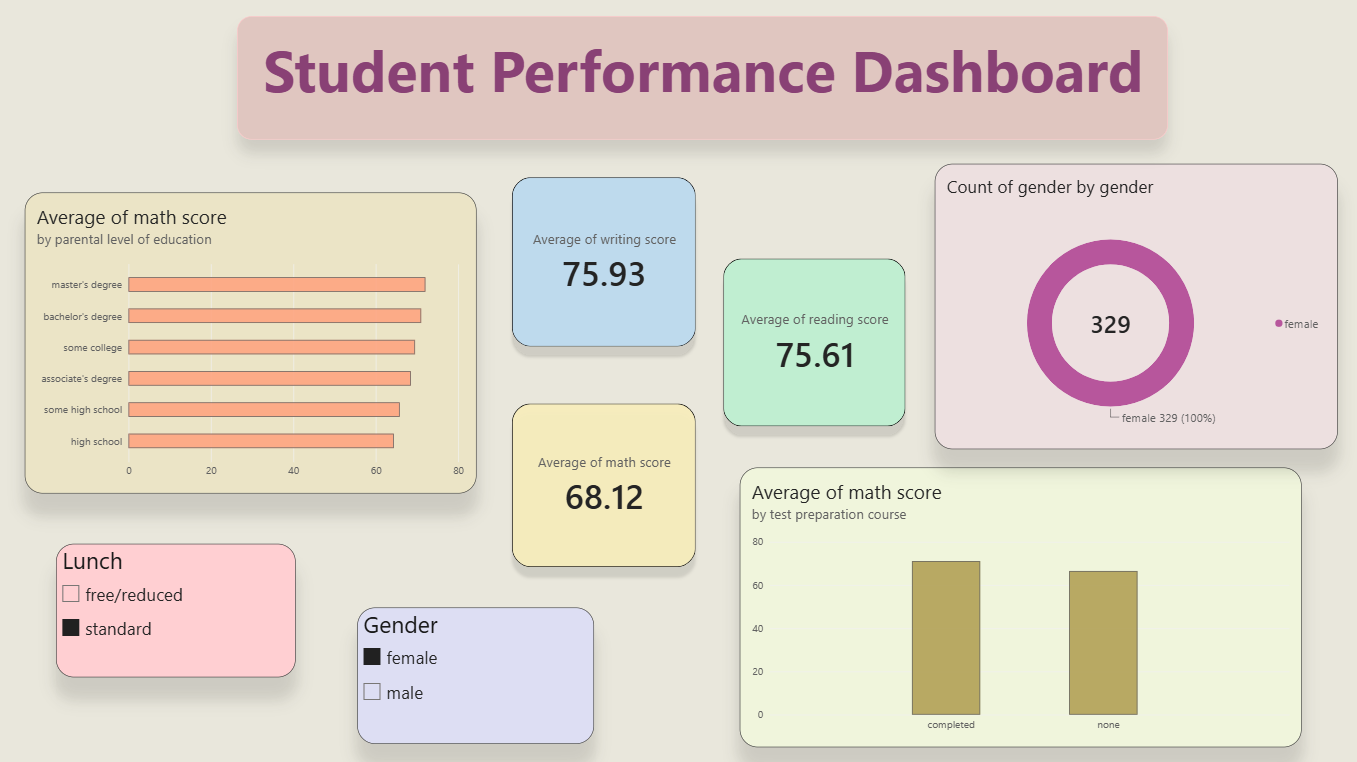

What the dashboard file says about the page in this screenshot:
{"tool":"powerbi","page":{"name":"Page 1","canvas":[1920,1080],"ordinal":0},"visuals":[{"type":"cardVisual","fields":{"Data":["Avg(StudentsPerformance.math score)"]},"box":[702,558,294,266],"z":0},{"type":"clusteredBarChart","fields":{"Category":["StudentsPerformance.parental level of education"],"Y":["Avg(StudentsPerformance.math score)"]},"box":[40,282,630,420],"z":1000},{"type":"clusteredColumnChart","fields":{"Category":["StudentsPerformance.test preparation course"],"Y":["Avg(StudentsPerformance.math score)"]},"box":[1038,666,784,390],"z":2000},{"type":"donutChart","fields":{"Category":["StudentsPerformance.gender"],"Y":["CountNonNull(StudentsPerformance.gender)"]},"box":[1310,242,562,398],"z":3000},{"type":"slicer","fields":{"Values":["StudentsPerformance.gender"]},"box":[504,862,330,190],"z":4000},{"type":"slicer","fields":{"Values":["StudentsPerformance.lunch"]},"box":[84,772,334,186],"z":5000},{"type":"cardVisual","fields":{"Data":["Avg(StudentsPerformance.writing score)"]},"box":[702,242,294,274],"z":8000},{"type":"cardVisual","fields":{"Data":["Avg(StudentsPerformance.reading score)"]},"box":[996,356,292,272],"z":9000},{"type":"textbox","box":[336,36,1298,172],"z":10000}]}

Visuals, with their boxes in screenshot pixels (x1, y1, x2, y2), scaled from the page's 1920x1080 canvas onto the 1357x762 screenshot:
cardVisual - Avg(StudentsPerformance.math score): l=496, t=394, r=704, b=581
clusteredBarChart - StudentsPerformance.parental level of education x Avg(StudentsPerformance.math score): l=28, t=199, r=474, b=495
clusteredColumnChart - StudentsPerformance.test preparation course x Avg(StudentsPerformance.math score): l=734, t=470, r=1288, b=745
donutChart - StudentsPerformance.gender x CountNonNull(StudentsPerformance.gender): l=926, t=171, r=1323, b=452
slicer - StudentsPerformance.gender: l=356, t=608, r=589, b=742
slicer - StudentsPerformance.lunch: l=59, t=545, r=295, b=676
cardVisual - Avg(StudentsPerformance.writing score): l=496, t=171, r=704, b=364
cardVisual - Avg(StudentsPerformance.reading score): l=704, t=251, r=910, b=443
textbox: l=237, t=25, r=1155, b=147
